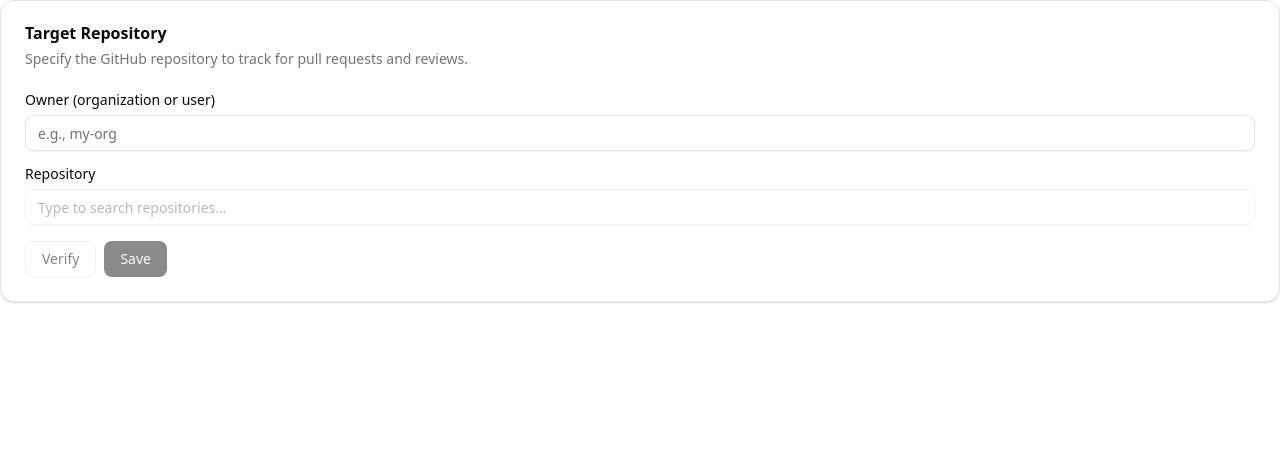
GitHubRepoForm › shows verify result on successful verification
The image size is (1280, 458).
Type "my-org" into the field labelled "Owner (organization or user)" at (640, 133), box [25,115,1255,151]
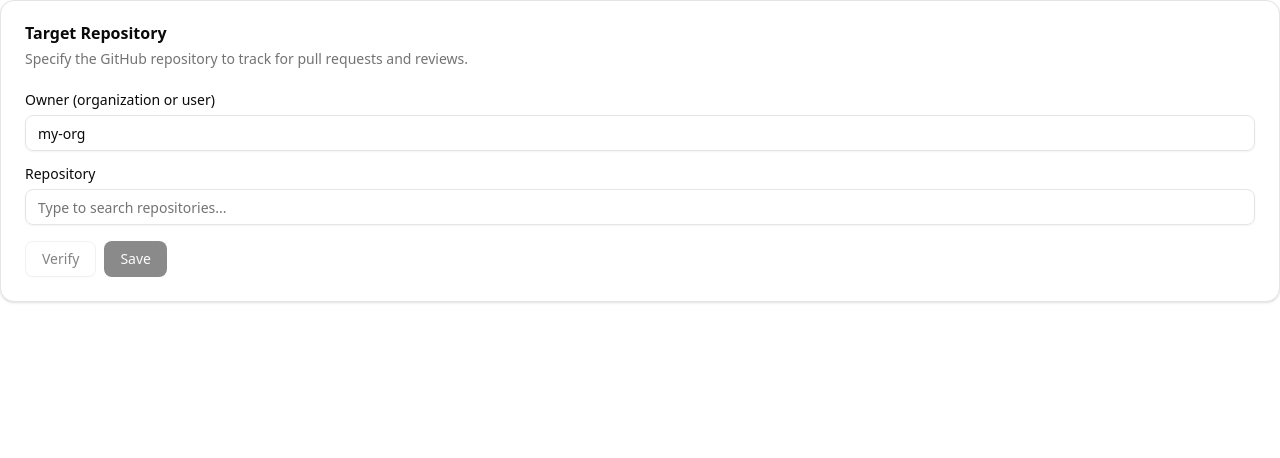
Type "my-repo" into the field labelled "Repository" at (640, 207), box [25,189,1255,225]
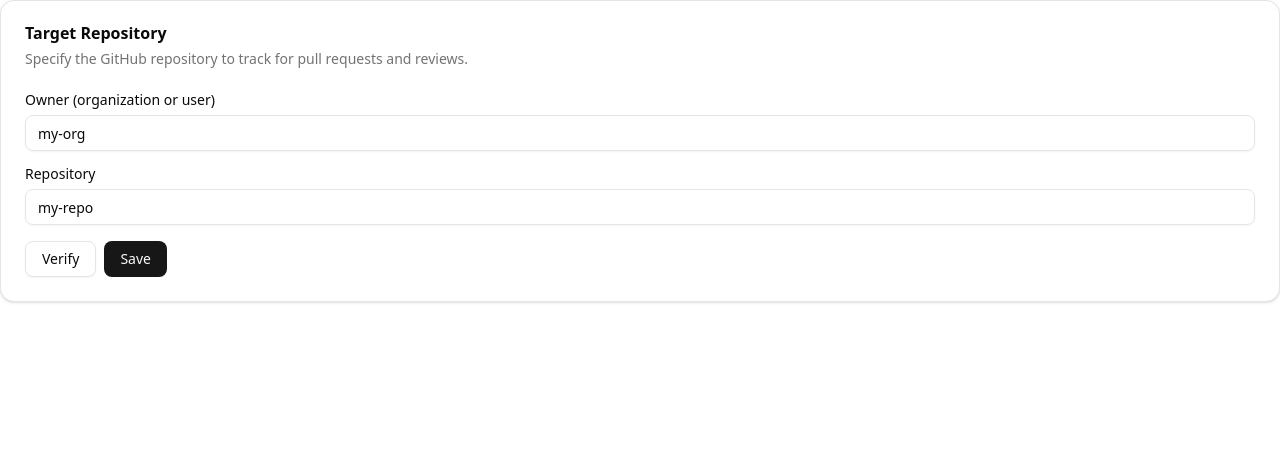
Click the button "Verify" at (61, 259), box [25,241,96,277]
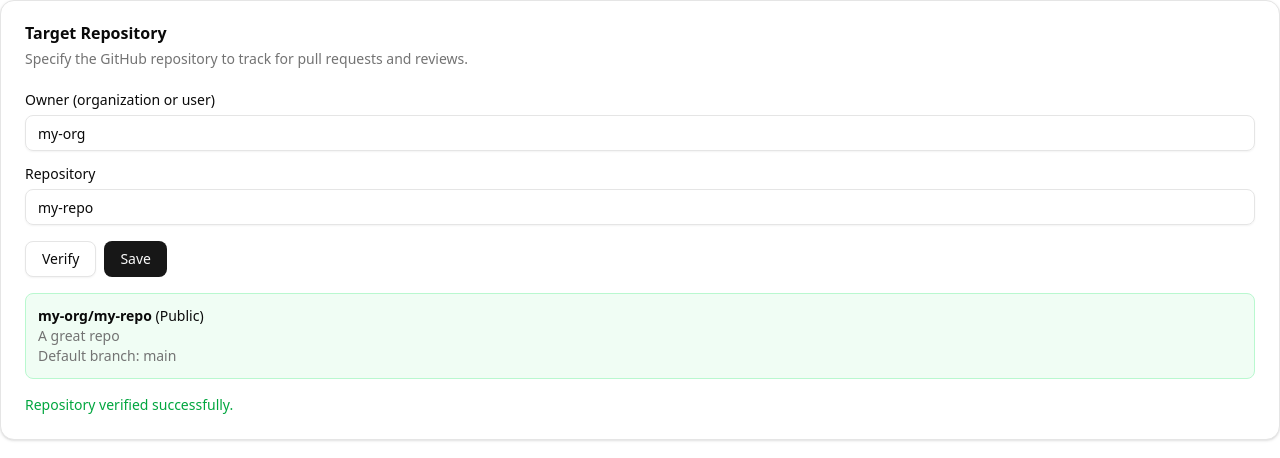
Expected: the text "my-org/my-repo" is shown, [38,306,152,325]
Expected: the text "(Public)" is shown, [156,306,204,325]
Expected: the text "Default branch: main" is shown, [38,346,176,365]
